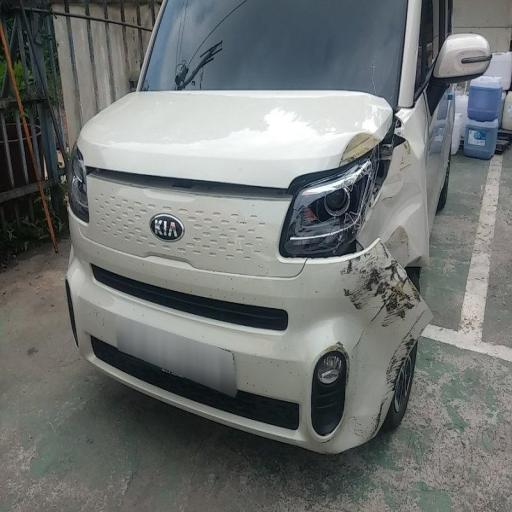broken: (280, 123, 416, 420)
